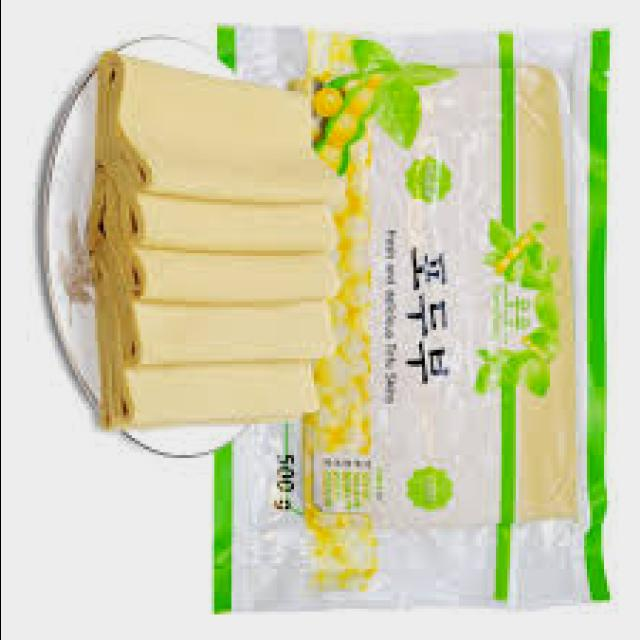tof: (106, 57, 352, 207)
